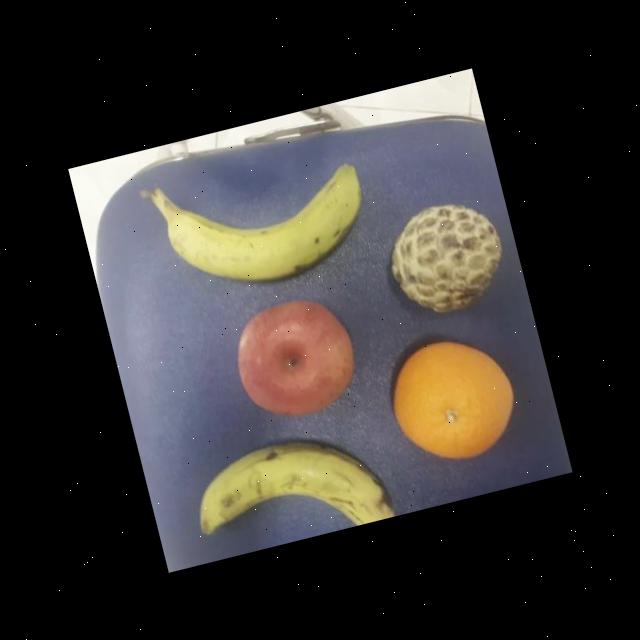Sakya fruit: (375, 189, 519, 328)
apple: (224, 286, 366, 428)
banana: (182, 412, 402, 562), (156, 160, 379, 304)
orange: (377, 324, 527, 473)
